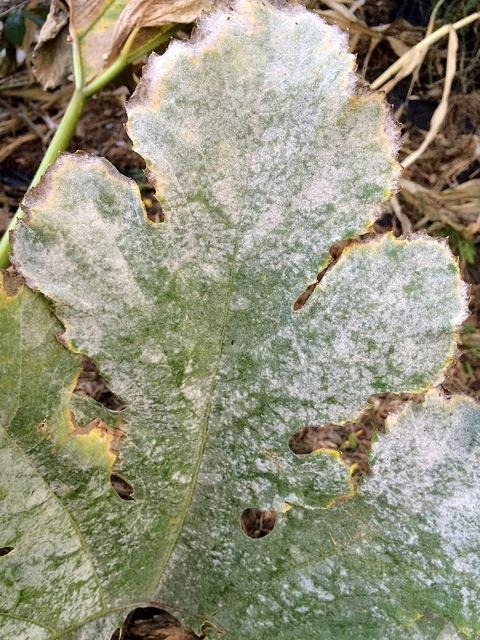Squash Powdery mildew leaf: (1, 1, 480, 640)
